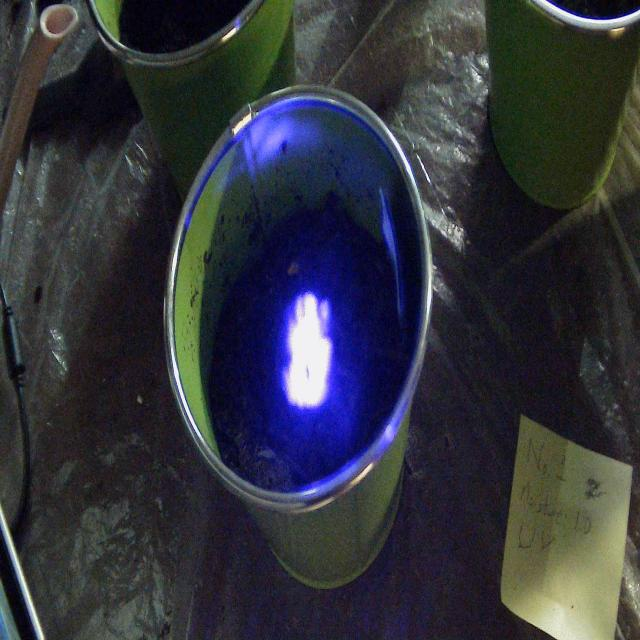soil-moisture-1.0: (284, 292, 333, 406)
